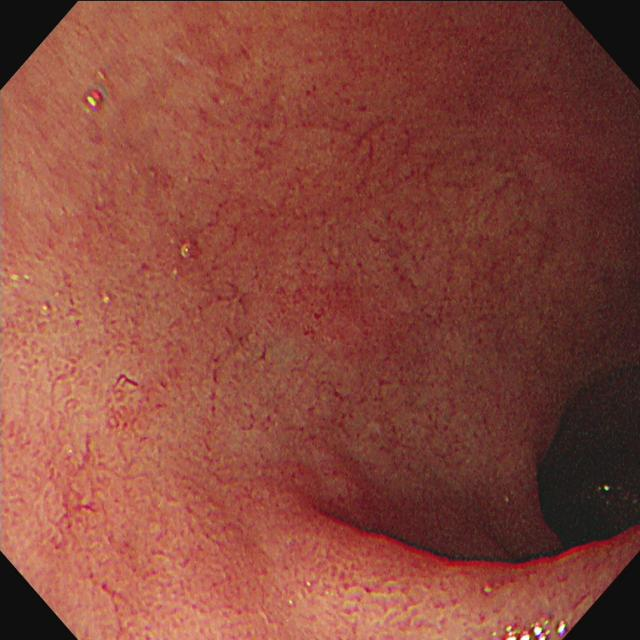E: (538, 370, 640, 552)
U: (505, 620, 569, 640), (86, 91, 102, 109)
